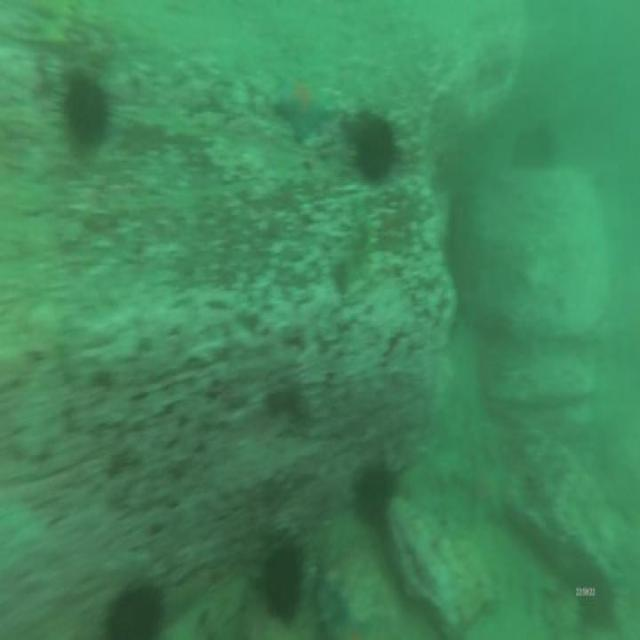echinus: (262, 542, 300, 618), (108, 588, 160, 640), (64, 81, 105, 139), (356, 114, 392, 180), (355, 465, 393, 515)
starfish: (463, 455, 508, 528), (276, 79, 328, 137)
